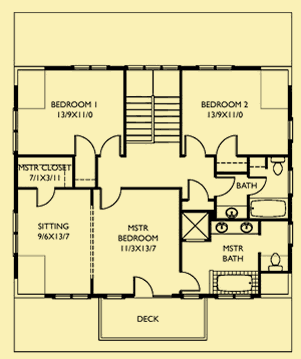door: (97, 183, 123, 210), (72, 132, 97, 159), (177, 269, 204, 294), (214, 131, 238, 159), (97, 130, 121, 158), (183, 132, 208, 158), (212, 175, 238, 199), (186, 177, 210, 202), (33, 184, 57, 208), (131, 273, 155, 297), (246, 175, 268, 196)
large sink: (261, 249, 285, 274), (268, 155, 286, 177)
small sink: (210, 220, 261, 236), (214, 205, 250, 219)
stairs: (123, 68, 183, 148)
tub: (210, 269, 261, 298), (247, 197, 290, 221)
windows: (122, 62, 180, 73), (9, 208, 20, 255), (10, 108, 21, 154), (195, 62, 236, 74), (70, 62, 110, 73), (51, 292, 90, 302), (284, 219, 296, 247), (286, 116, 296, 144), (287, 167, 296, 196), (105, 291, 124, 302)
